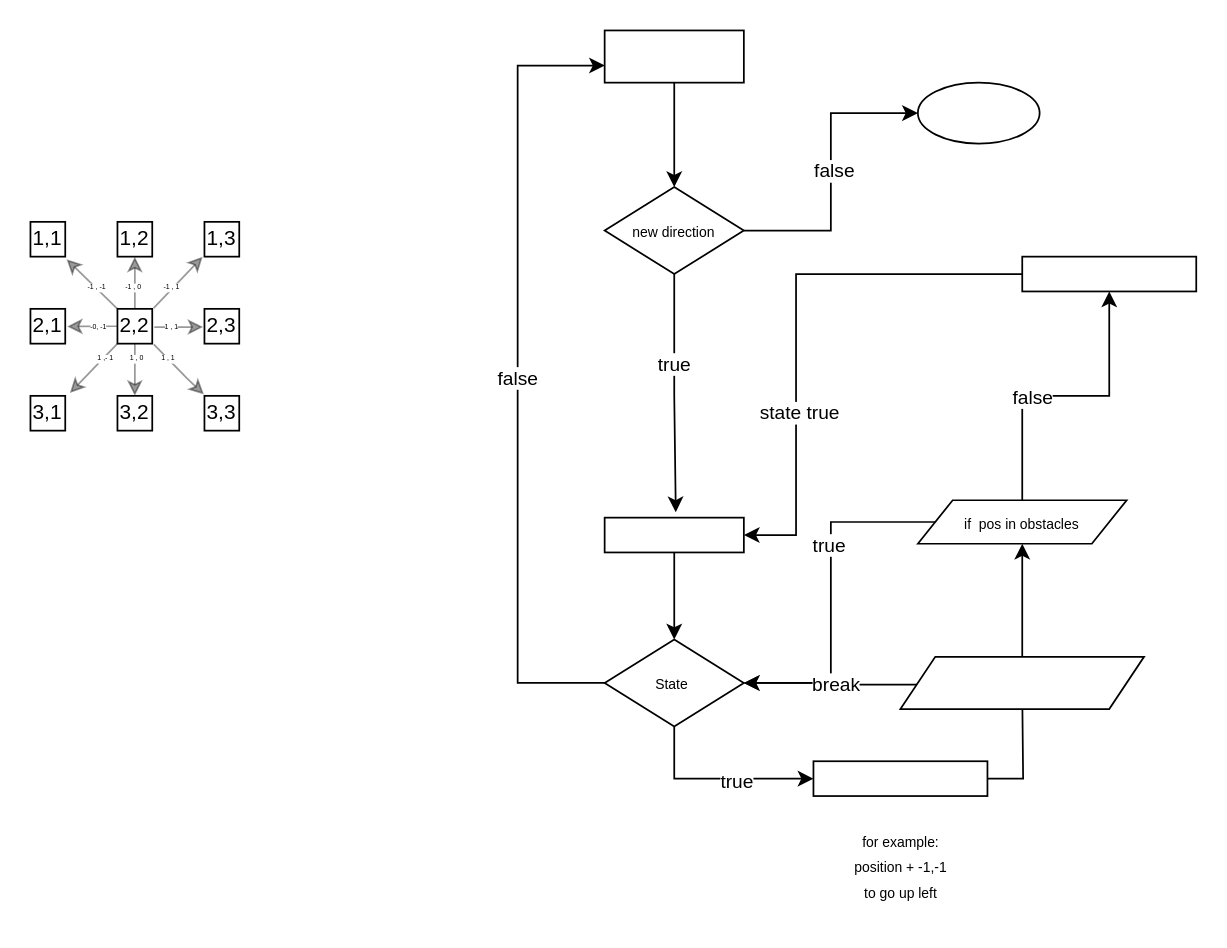
Image size: 1227x948. Some labels were removed from this diagram. Here are the shapes that lost their labels. From the top down, the centre of each, then its label:
point (673, 56): for each direction
point (978, 112): end for loop
point (1108, 273): attack_count +=1
point (673, 534): while
point (1021, 682): if out of bounds
point (899, 778): pos + direction
